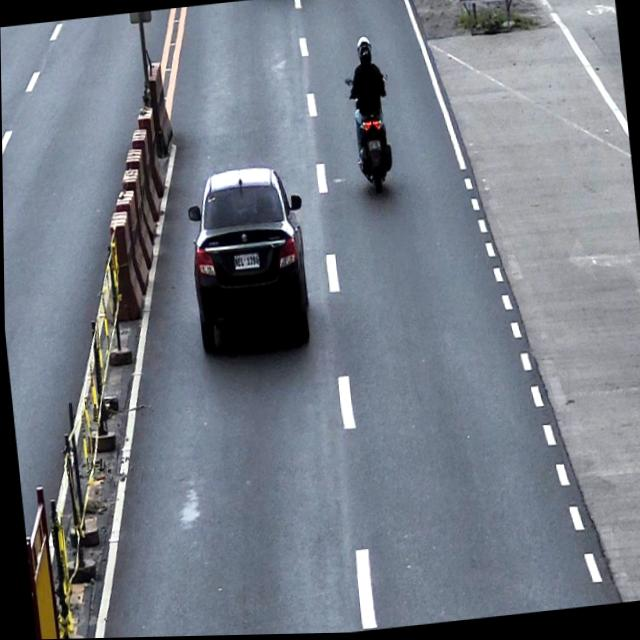Car: (182, 162, 314, 356)
License-Plate: (231, 250, 260, 272), (367, 139, 380, 152)
Motorcycle: (343, 73, 398, 197)
